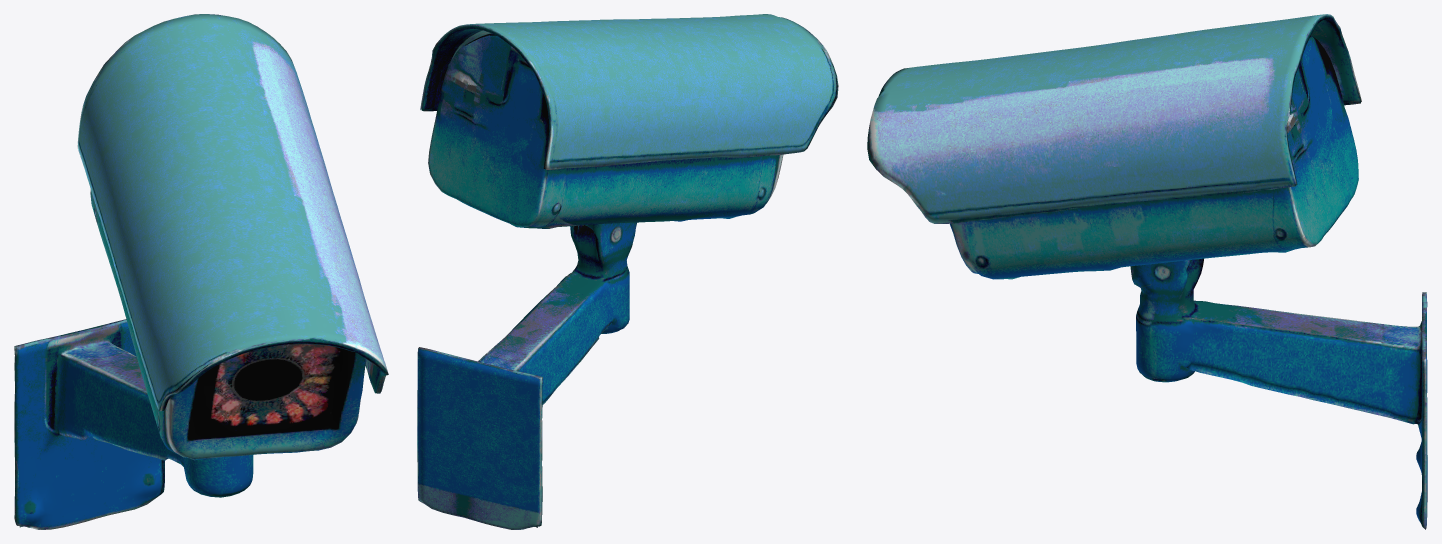
Rendered from Security_Watcher.glb.
3 views of the same model, side by side, from view 1: azimuth 30°, elevation 25°; view 2: azimuth 150°, elevation 25°; view 3: azimuth 270°, elevation 25° (orthographic). The views are drawn at different scales.
Visible parts, largest first — view 1: Mesh_0; view 2: Mesh_0; view 3: Mesh_0.
Boxes of the visible parts, <box> form: Mesh_0: <box>14,14,388,529</box>; Mesh_0: <box>417,14,838,529</box>; Mesh_0: <box>867,14,1427,529</box>.
Size of the model in its own units: 1.2 by 1.98 by 2.
1 material, 1 textured.
